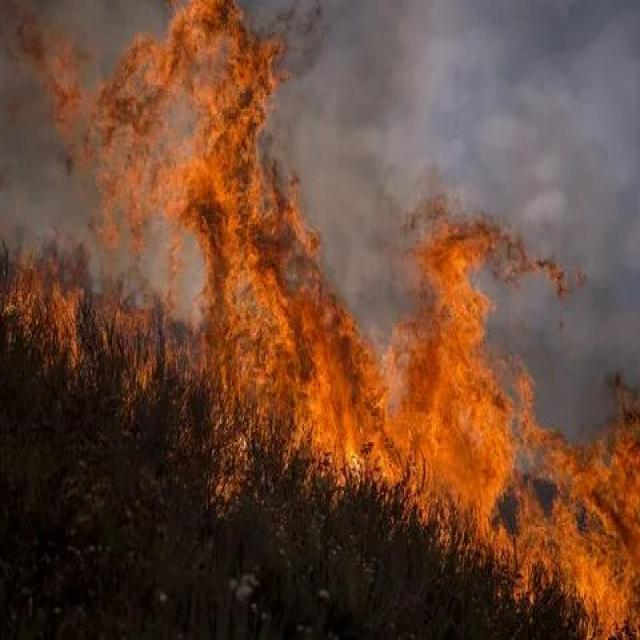Fire: (168, 231, 640, 640)
Smoke: (306, 0, 634, 208)
